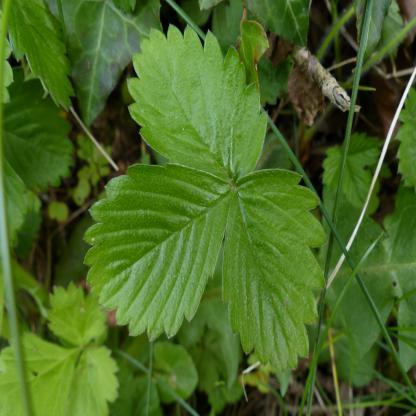Strawberry leaf: (78, 159, 236, 344), (121, 20, 271, 202), (224, 168, 324, 385)
